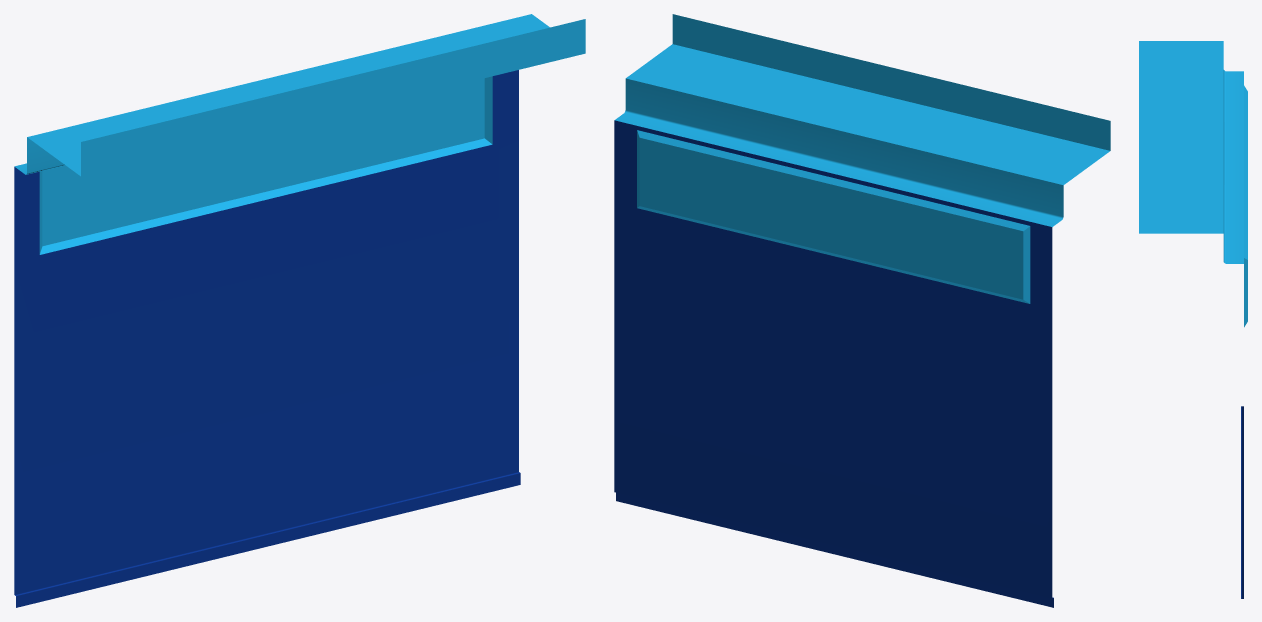
Rendered from Front_Empty_6.fbx.
3 views of the same model, side by side, from view 1: azimuth 30°, elevation 25°; view 2: azimuth 150°, elevation 25°; view 3: azimuth 270°, elevation 25° (orthographic). The views are drawn at different scales.
Visible parts, largest first — view 1: Front_Empty_6; view 2: Front_Empty_6; view 3: Front_Empty_6.
Part boxes in pixels (bbox=[...]): Front_Empty_6: bbox=[14, 14, 585, 607]; Front_Empty_6: bbox=[614, 14, 1110, 607]; Front_Empty_6: bbox=[1139, 41, 1247, 598].
Size of the model in its own units: 600 by 583 by 143.
